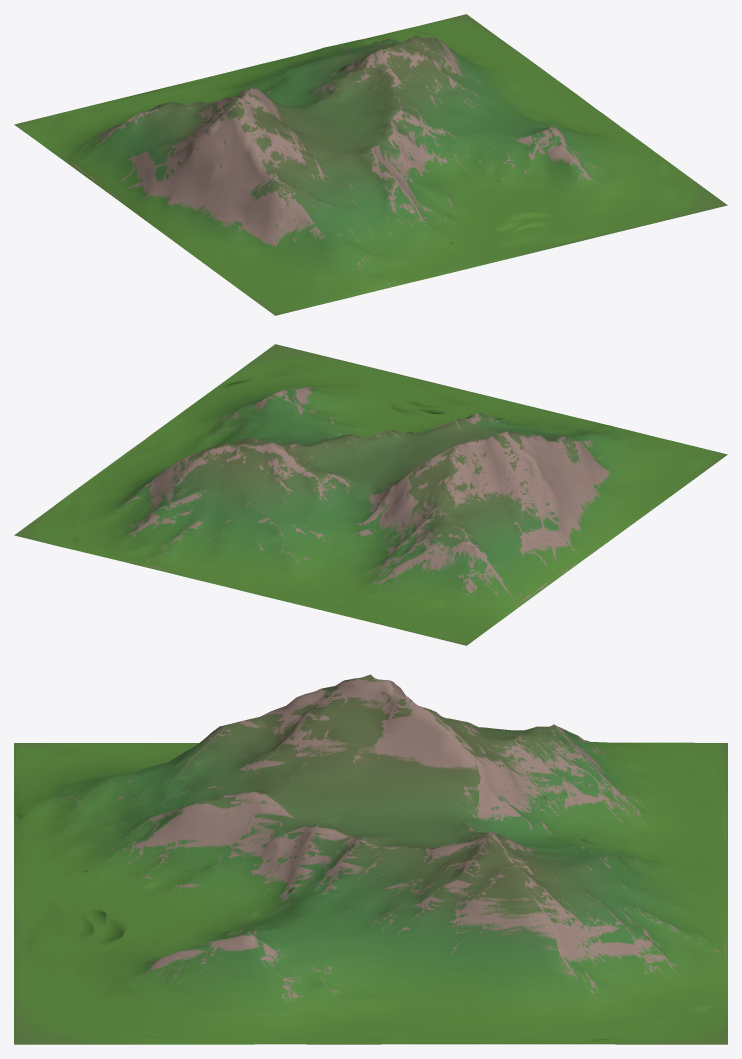
3 views of the same model, one above another, from view 1: azimuth 30°, elevation 25°; view 2: azimuth 150°, elevation 25°; view 3: azimuth 270°, elevation 25° (orthographic). The views are drawn at different scales.
Parts seen in each view (by area): view 1: submesh_0; view 2: submesh_0; view 3: submesh_0.
Boxes of the visible parts, x1,y1,x2,y2 form: submesh_0: (14,14,727,315); submesh_0: (14,344,727,645); submesh_0: (14,674,727,1044).
Size of the model in its own units: 1051 by 212 by 1052.
1 material, 1 textured.
